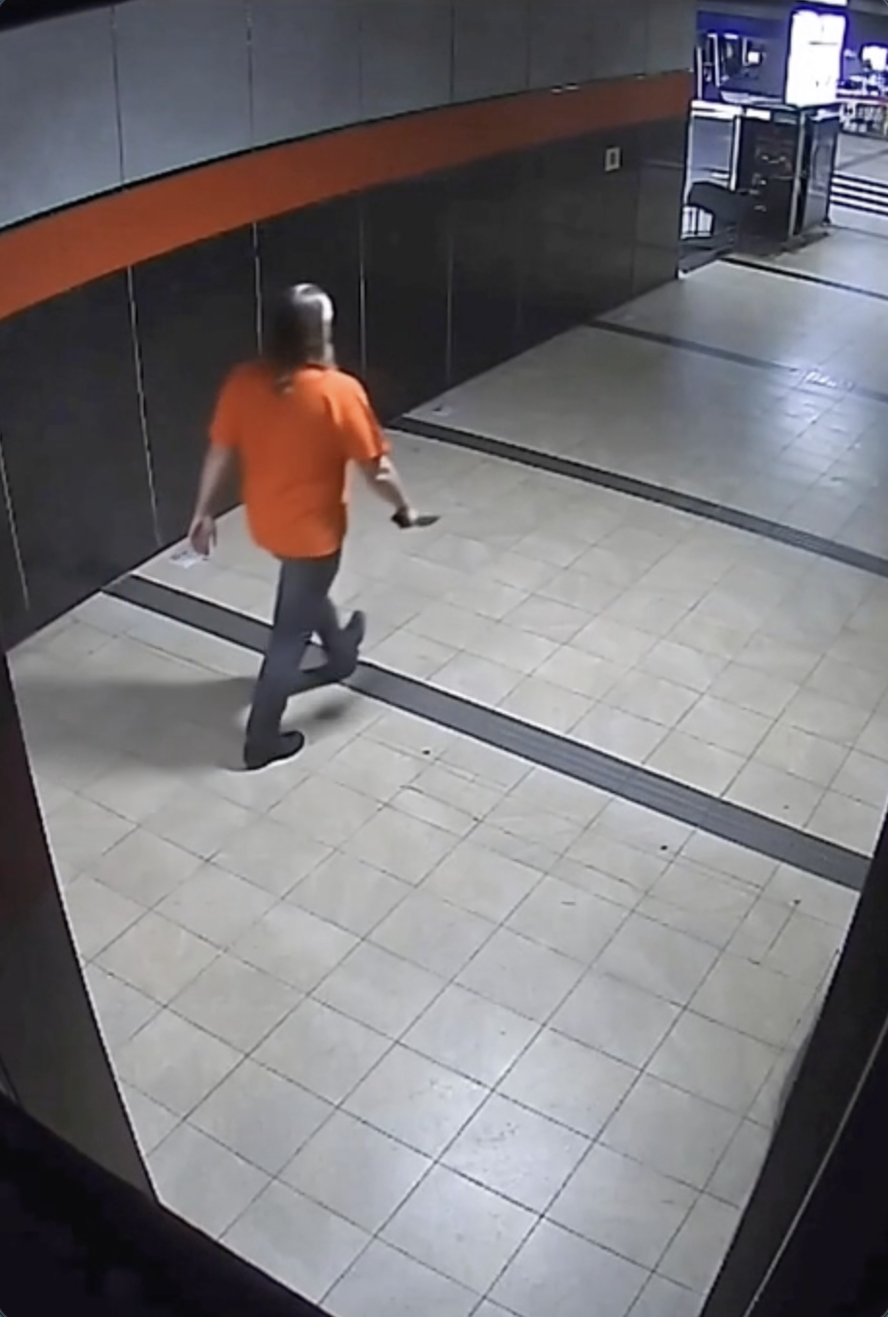Heavy Gun: (180, 260, 382, 776)
Knife: (375, 495, 451, 536)
